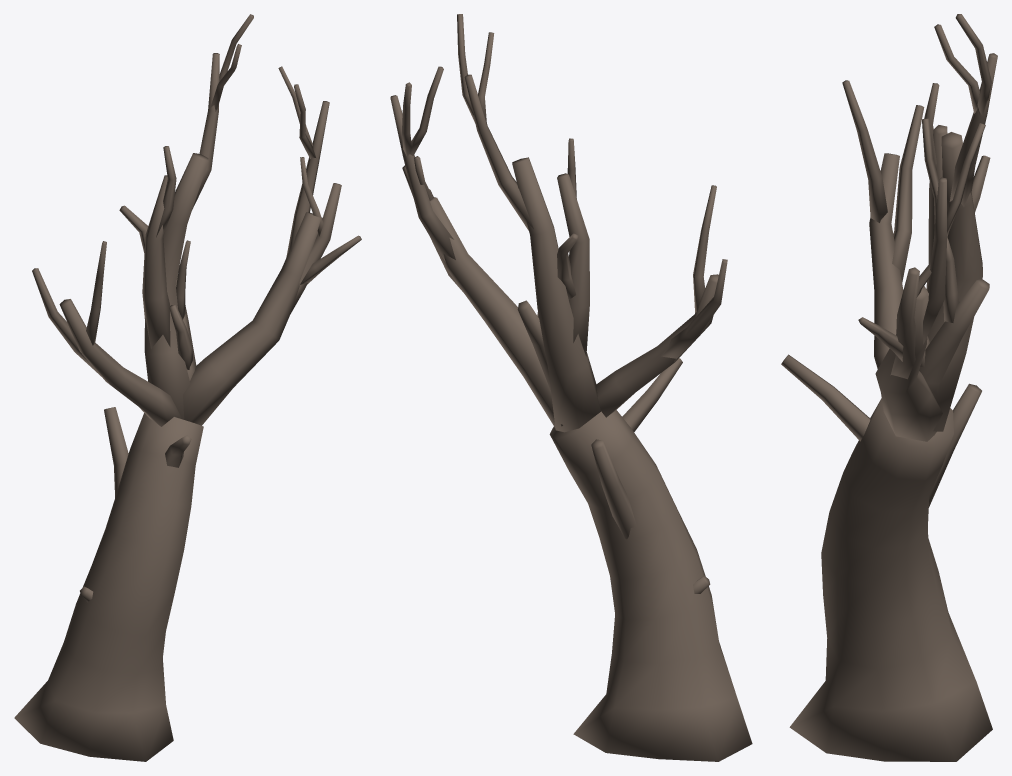
The model's file is dead_tree.glb.
3 views of the same model, side by side, from view 1: azimuth 30°, elevation 25°; view 2: azimuth 150°, elevation 25°; view 3: azimuth 270°, elevation 25° (orthographic). The views are drawn at different scales.
Visible parts, largest first — view 1: Body; view 2: Body; view 3: Body.
Boxes of the visible parts, bbox=[...] form: Body: bbox=[14, 14, 361, 761]; Body: bbox=[390, 14, 752, 761]; Body: bbox=[781, 14, 997, 761].
Bounding box in the file's own units: 2.73 × 5.45 × 1.31.
